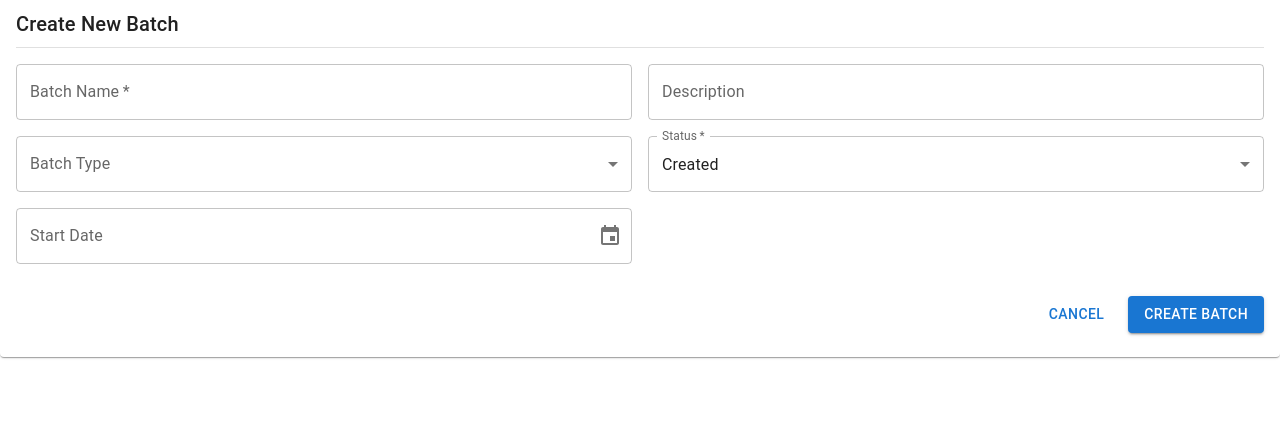
Test: BatchForm › handles API errors gracefully
The width and height of the screenshot is (1280, 440).
Type "Test Batch" into the field labelled "Batch Name *" at (324, 92), box [16,64,632,120]
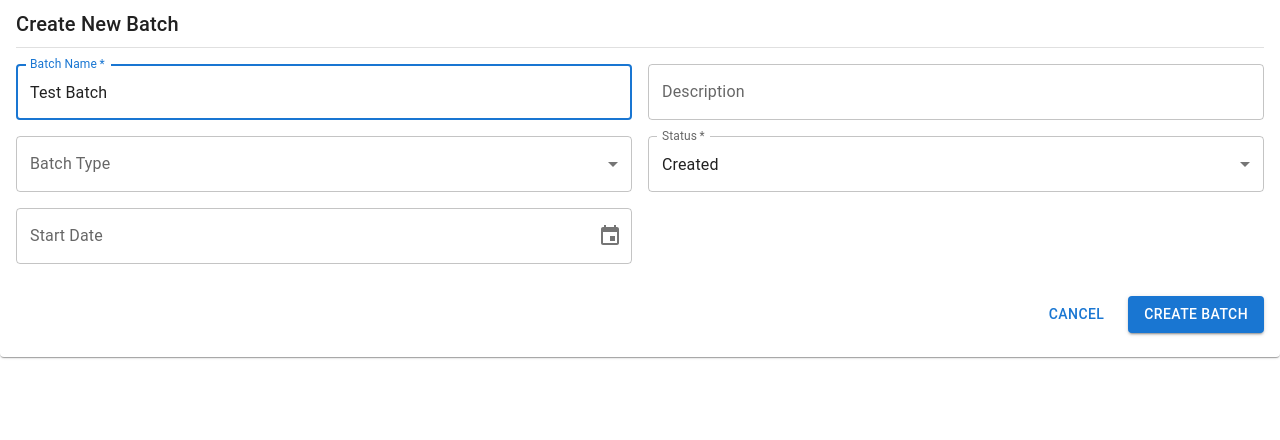
Click the button "Create Batch" at (1196, 314), box [1128,296,1264,332]
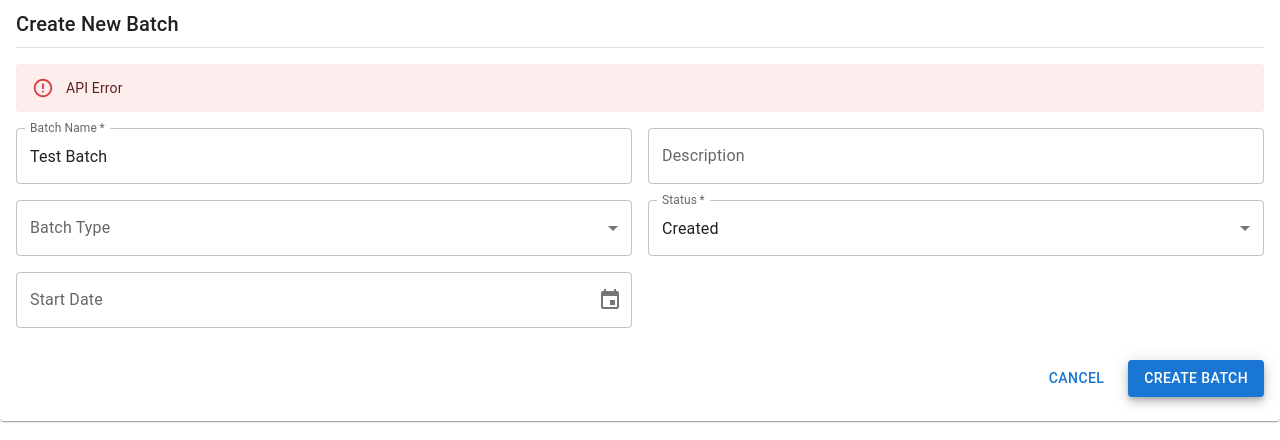
Expected: the text "API Error" is shown, [66,80,123,96]
